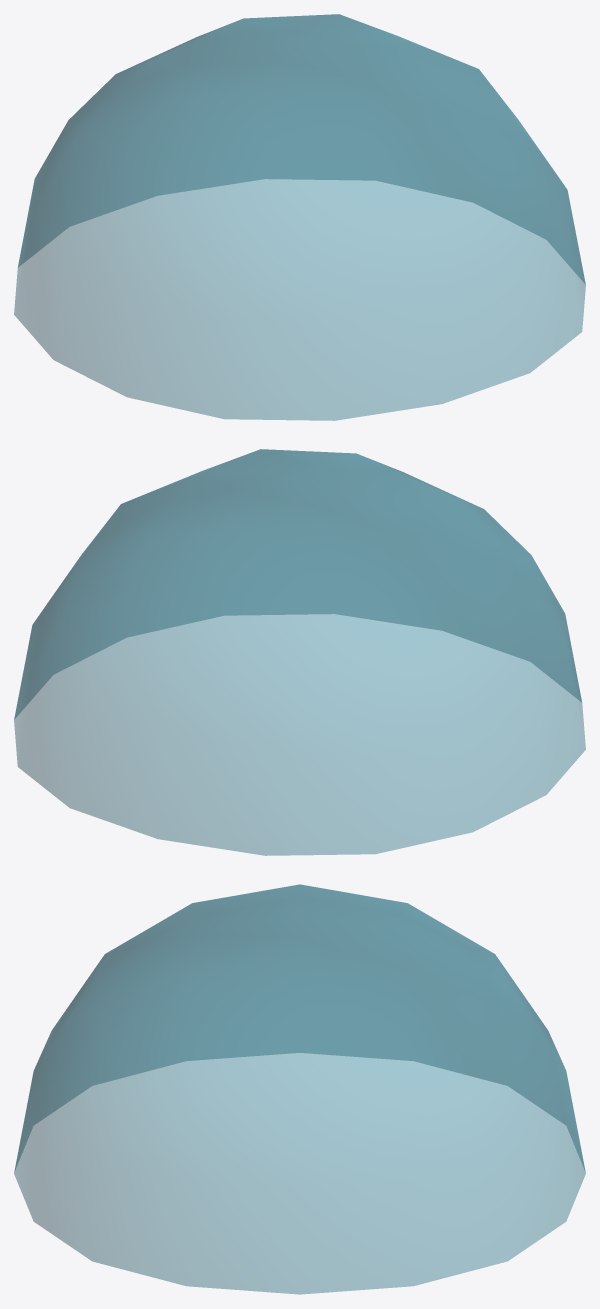
File: SemiSphere_EditMode.glb
3 views of the same model, one above another, from view 1: azimuth 30°, elevation 25°; view 2: azimuth 150°, elevation 25°; view 3: azimuth 270°, elevation 25° (orthographic).
Visible parts, largest first — view 1: SemiSphere; view 2: SemiSphere; view 3: SemiSphere.
Part boxes in pixels (x1,y1,x2,y2): SemiSphere: (14, 14, 585, 420); SemiSphere: (14, 449, 585, 855); SemiSphere: (14, 884, 585, 1294).
Bounding box in the file's own units: 1 × 0.5 × 1.
1 material, 1 textured.
